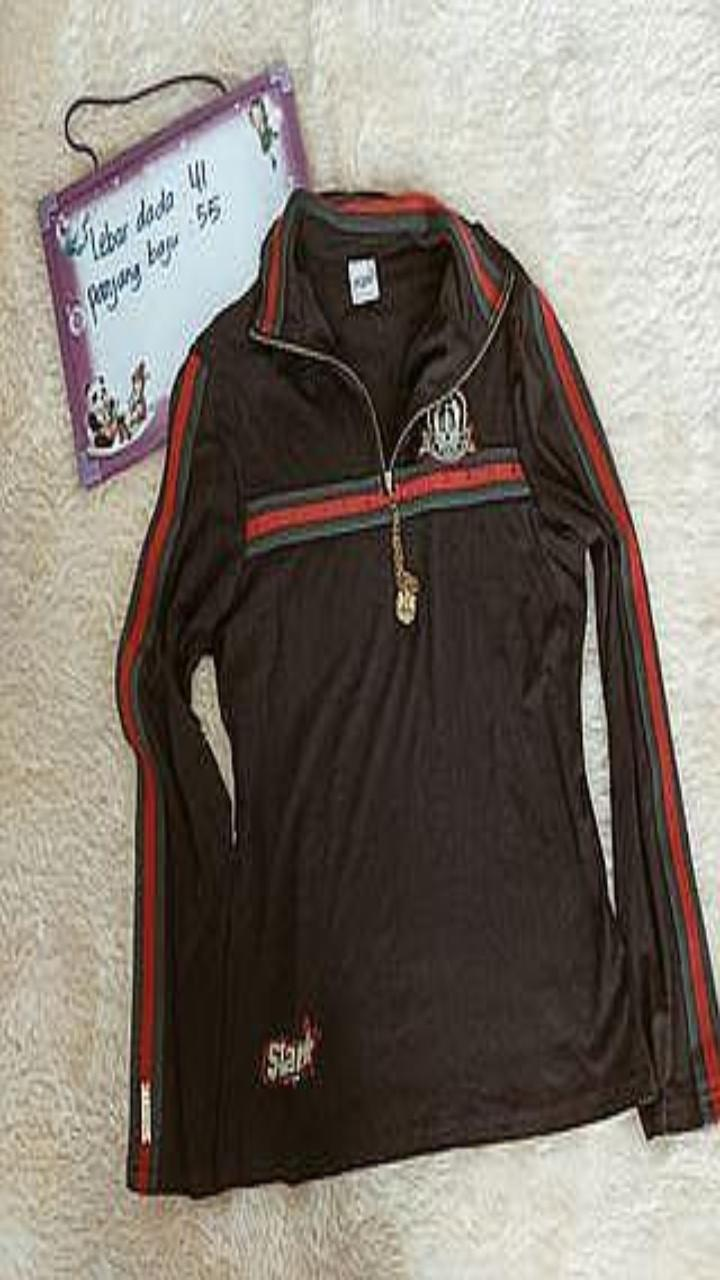Sports_Jacket: (115, 187, 719, 1195)
